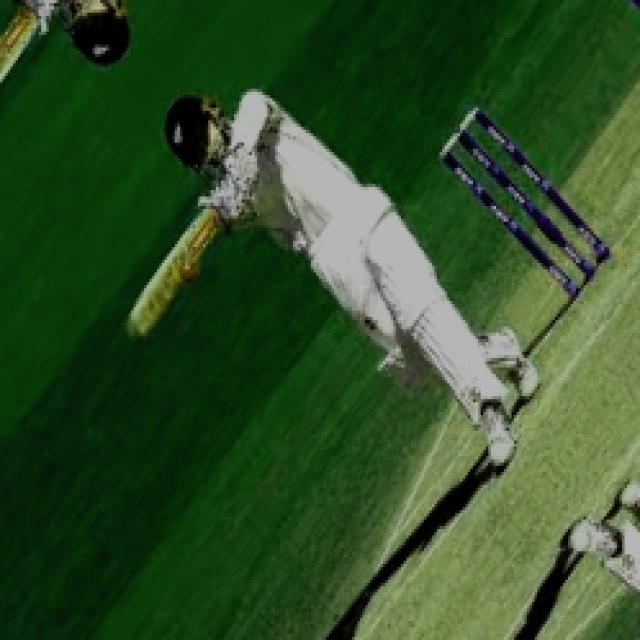toe: (120, 313, 154, 346)
